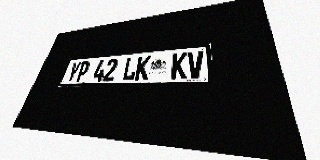2: (102, 58, 119, 81)
4: (91, 59, 108, 82)
K: (171, 52, 187, 79), (134, 55, 151, 80)
L: (122, 57, 138, 81)
P: (74, 61, 91, 82)
V: (187, 51, 204, 79)
Y: (65, 62, 82, 82)
